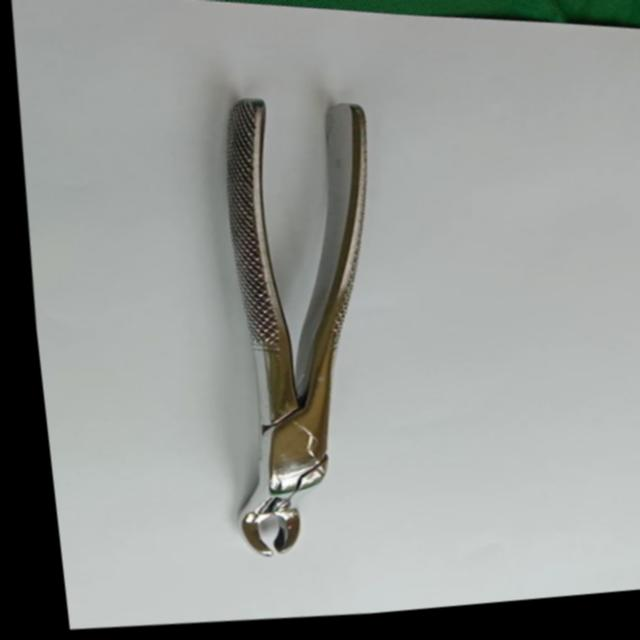BayonetForcep: (157, 87, 423, 581)
